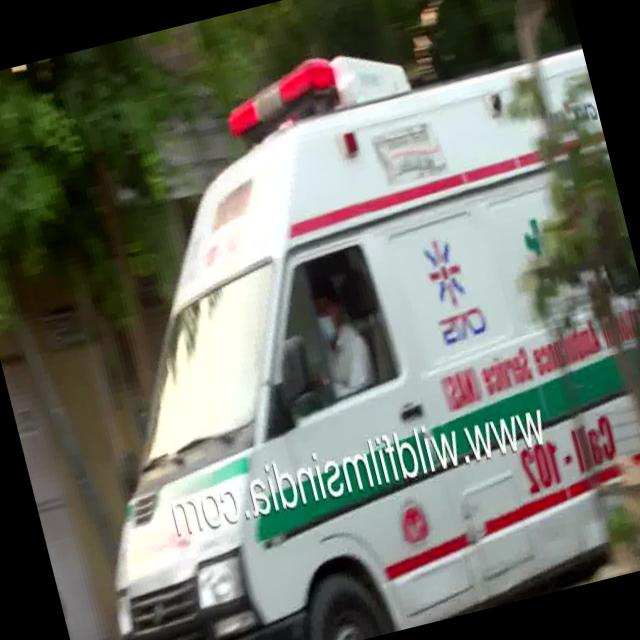ambulance: (15, 0, 640, 476), (89, 426, 640, 640)
